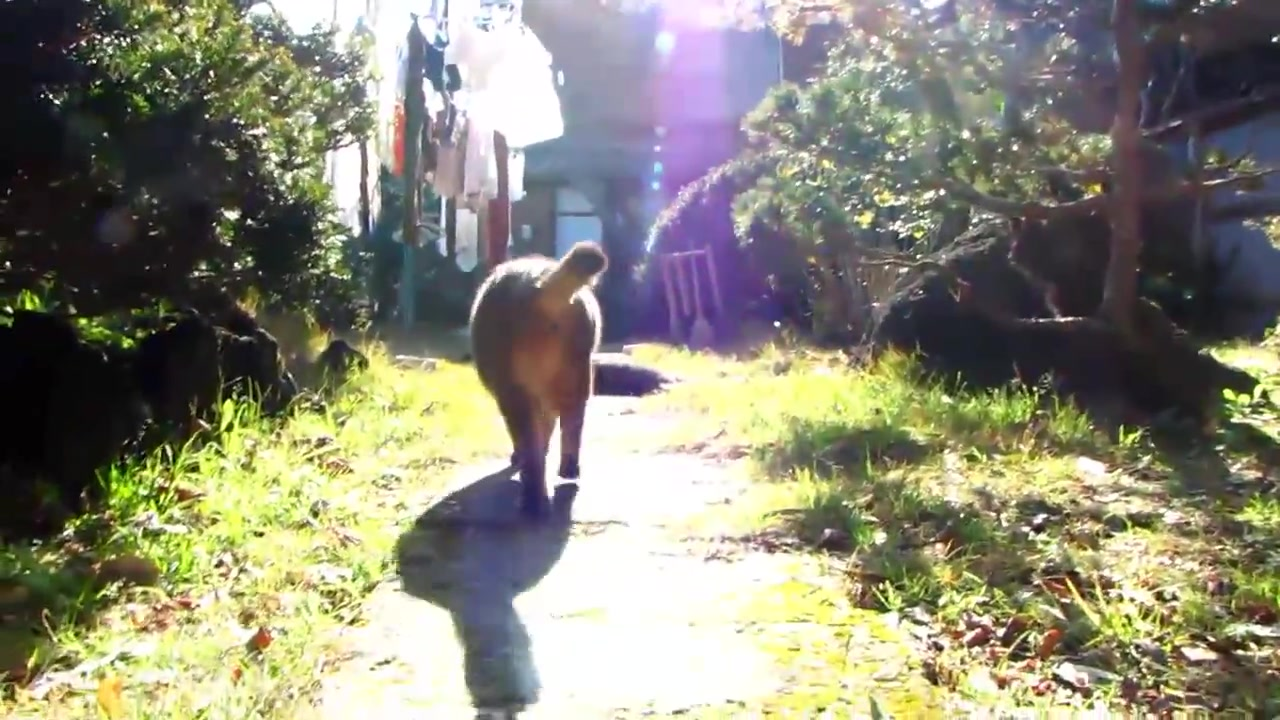cat: (470, 244, 608, 527)
